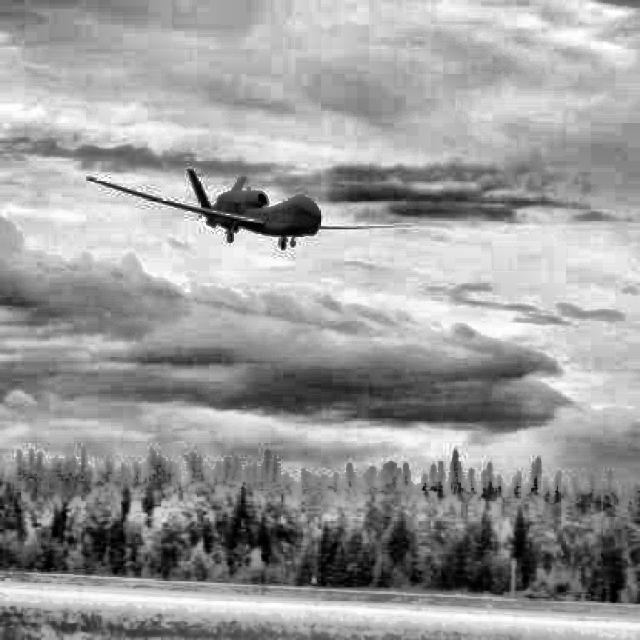RQ4: (87, 168, 415, 250)
